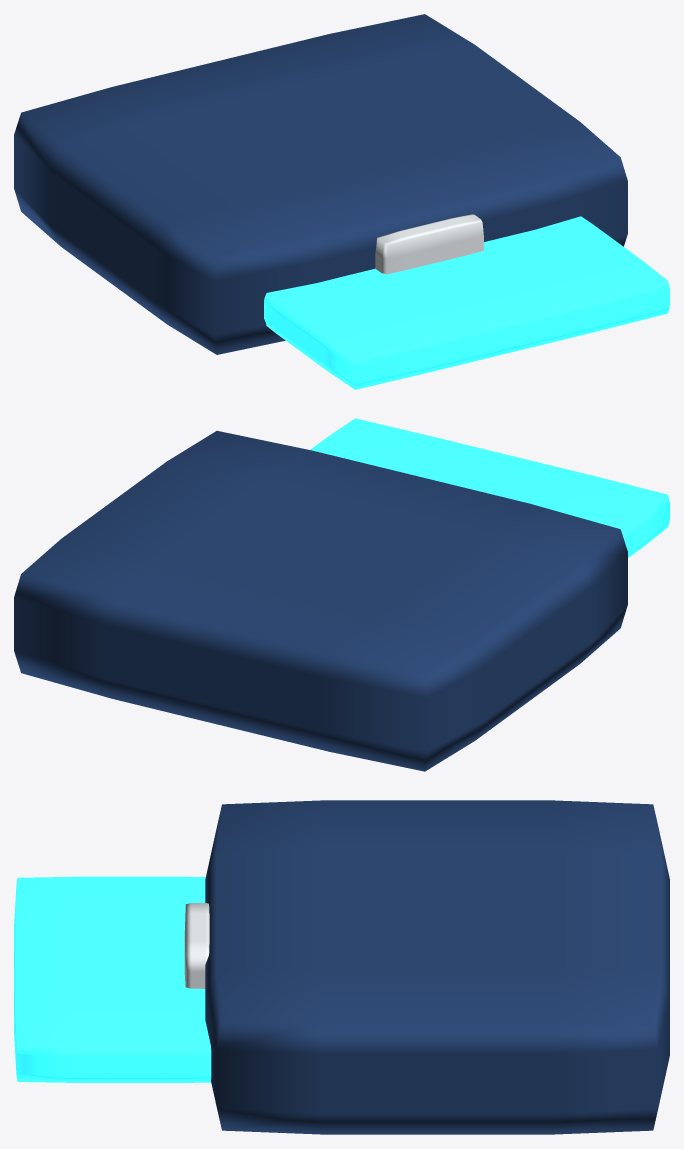
File: cap-code.glb
3 views of the same model, one above another, from view 1: azimuth 30°, elevation 25°; view 2: azimuth 150°, elevation 25°; view 3: azimuth 270°, elevation 25° (orthographic). The views are drawn at different scales.
Parts seen in each view (by area): view 1: Cap, Brim, Badge; view 2: Cap, Brim; view 3: Cap, Brim, Badge.
Boxes of the visible parts, x1,y1,x2,y2 form: Cap: (14,14,627,354); Brim: (264,216,669,389); Badge: (375,214,483,274); Cap: (14,431,627,771); Brim: (310,418,669,557); Cap: (205,800,669,1134); Brim: (14,876,211,1082); Badge: (184,903,209,988).
Size of the model in its own units: 1.62 by 0.38 by 1.92.
